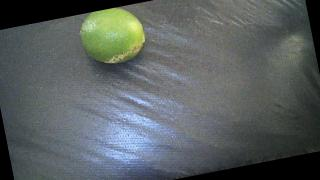DESECHO: (76, 3, 149, 69)
